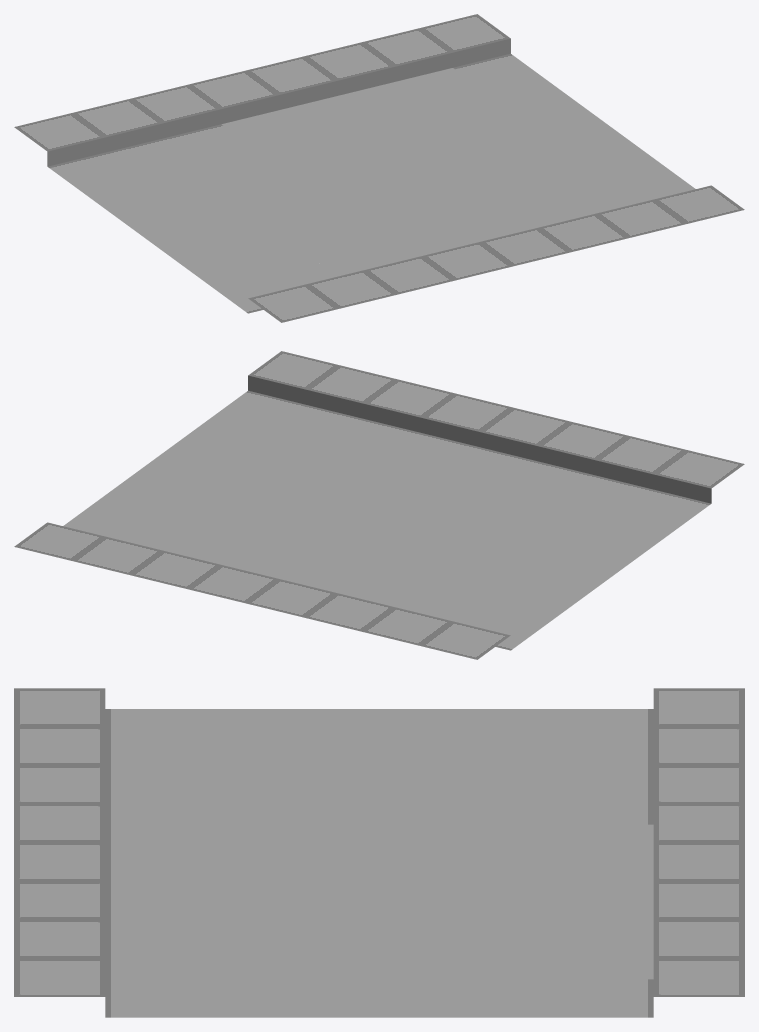
The model's file is Street_Piece.gltf.
3 renders of one model, top to bottom at view 1: azimuth 30°, elevation 25°; view 2: azimuth 150°, elevation 25°; view 3: azimuth 270°, elevation 25°, orthographic. The views are drawn at different scales.
Visible parts, largest first — view 1: Street Piece; view 2: Street Piece; view 3: Street Piece.
Part boxes in pixels (x1,y1,x2,y2): Street Piece: (14, 14, 744, 322); Street Piece: (14, 351, 744, 659); Street Piece: (14, 688, 744, 1017).
Bounding box in the file's own units: 8 × 0.25 × 8.
Materials: 1 (1 with a texture image).
